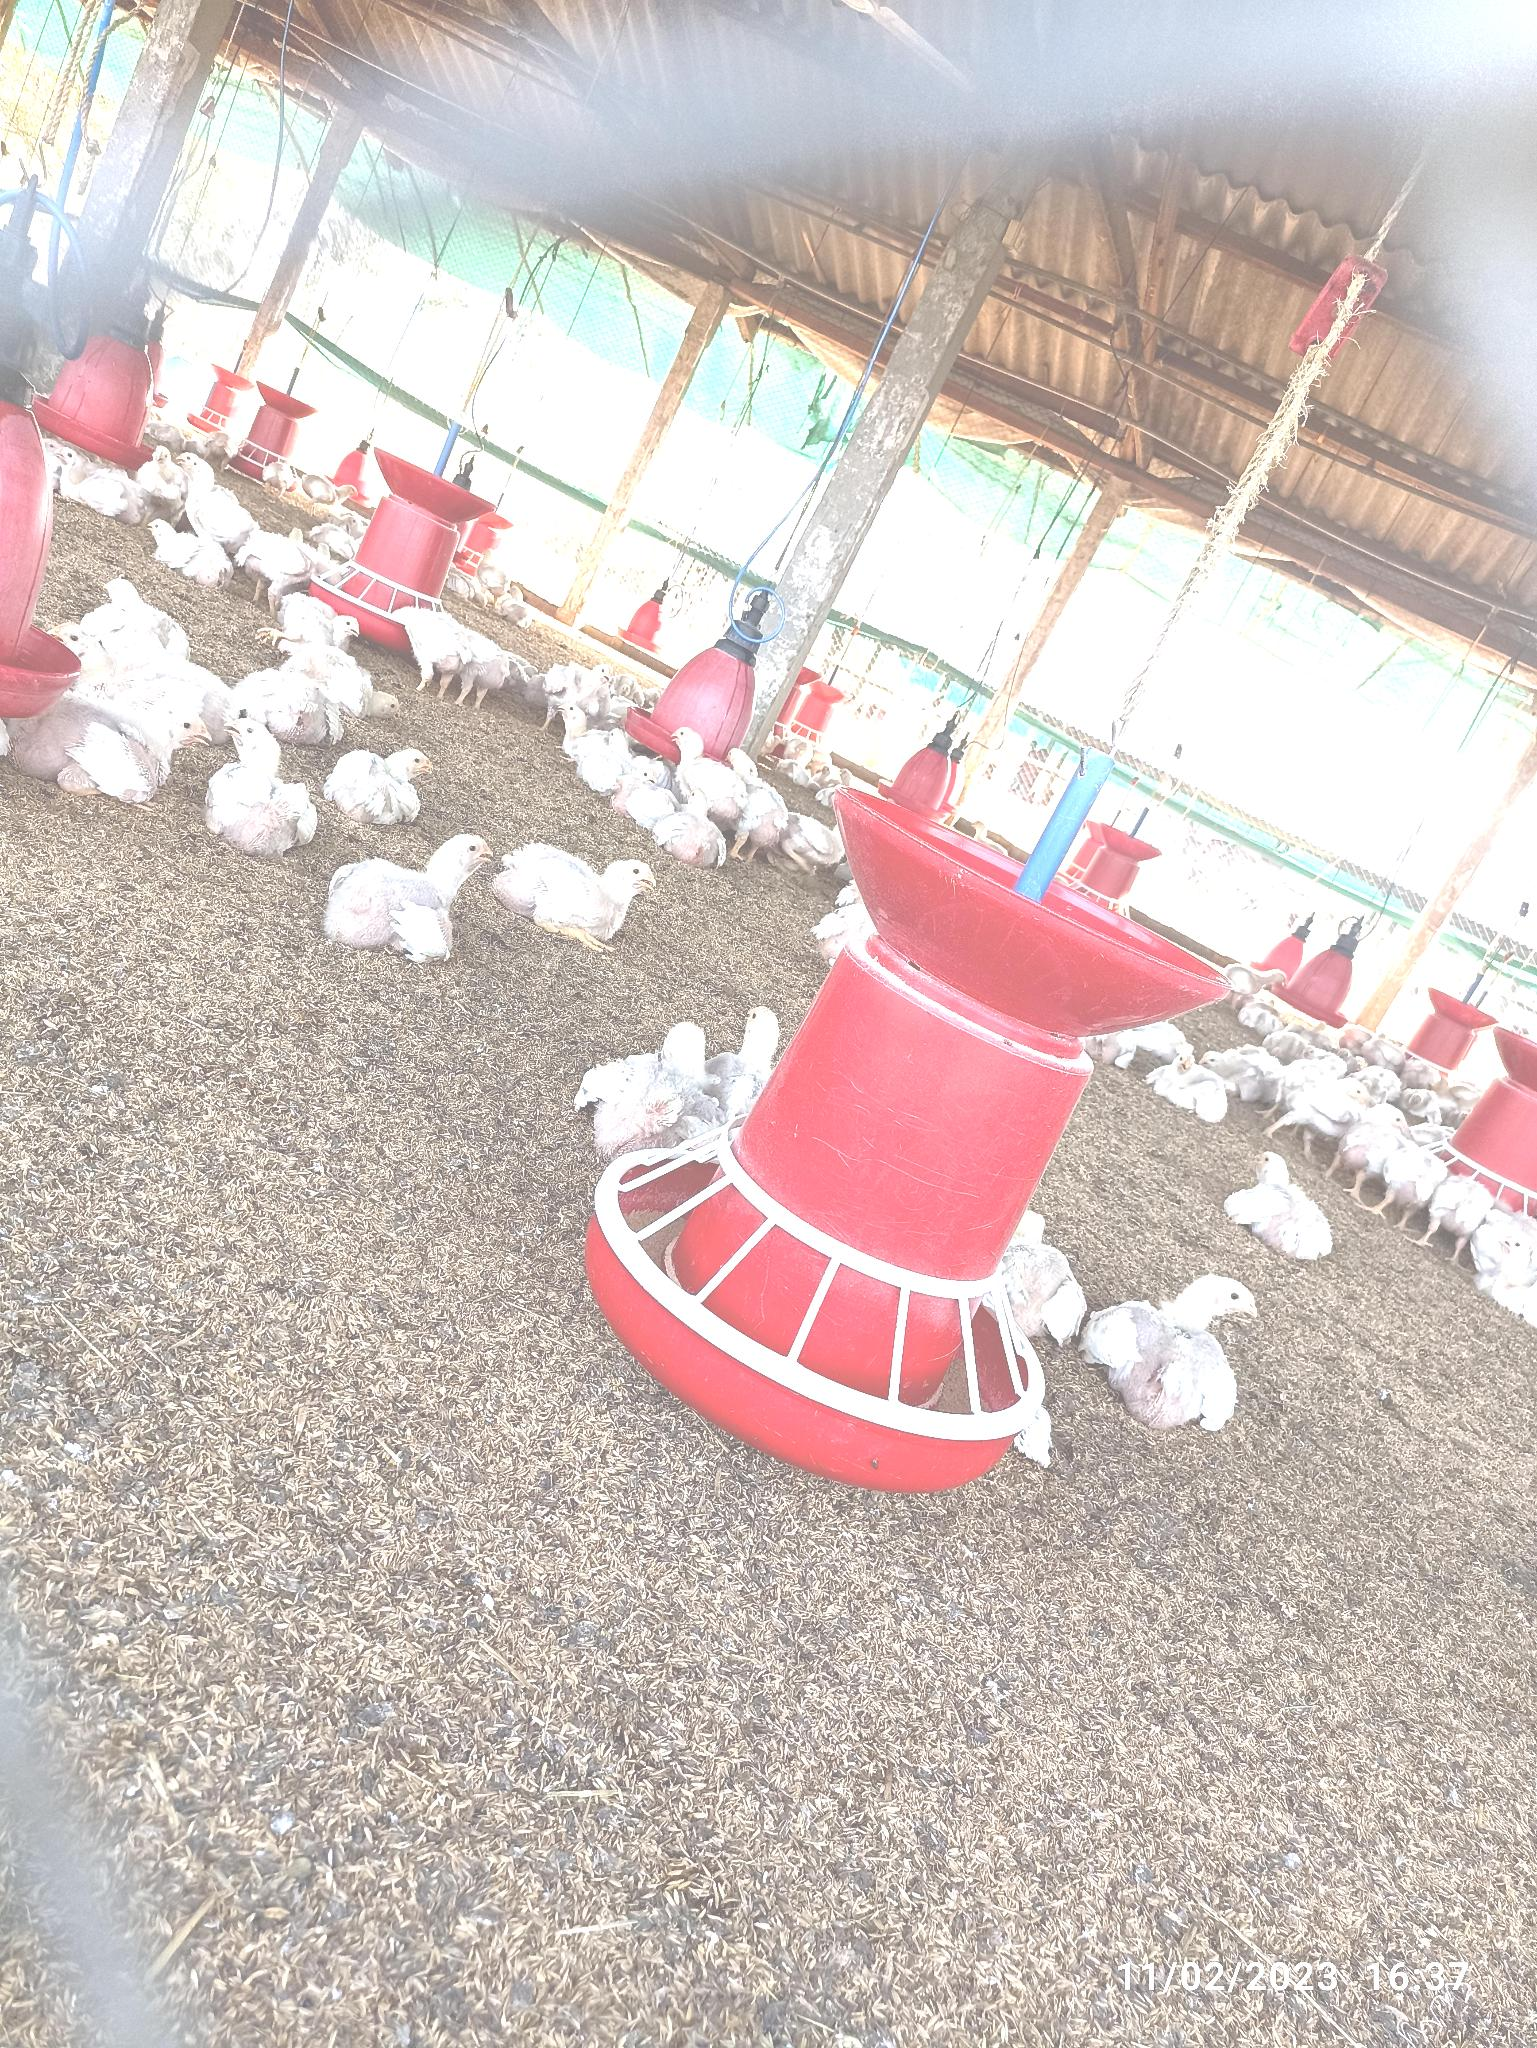Pollos: (1093, 1273, 1263, 1430), (328, 834, 497, 951), (488, 839, 668, 944), (31, 700, 213, 800), (581, 1022, 725, 1141), (189, 713, 323, 838), (1233, 1143, 1337, 1259), (387, 591, 488, 691), (325, 741, 438, 818), (136, 507, 236, 592), (668, 720, 731, 825), (1153, 1041, 1233, 1122)
